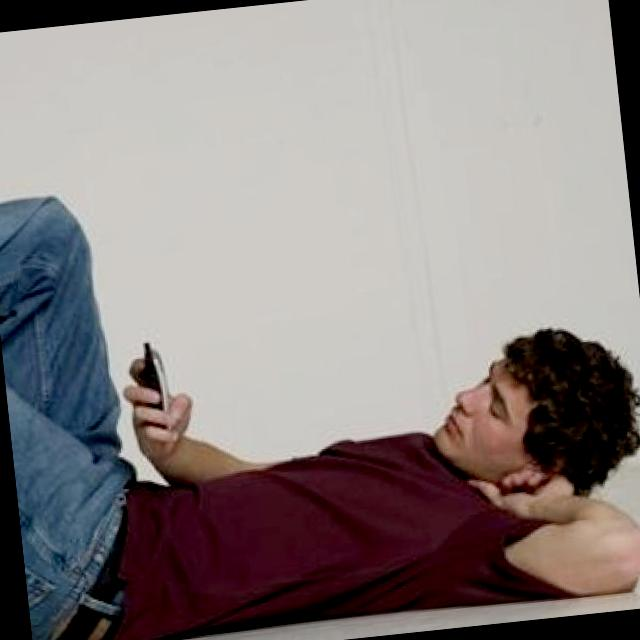no_vest: (96, 385, 490, 640)
